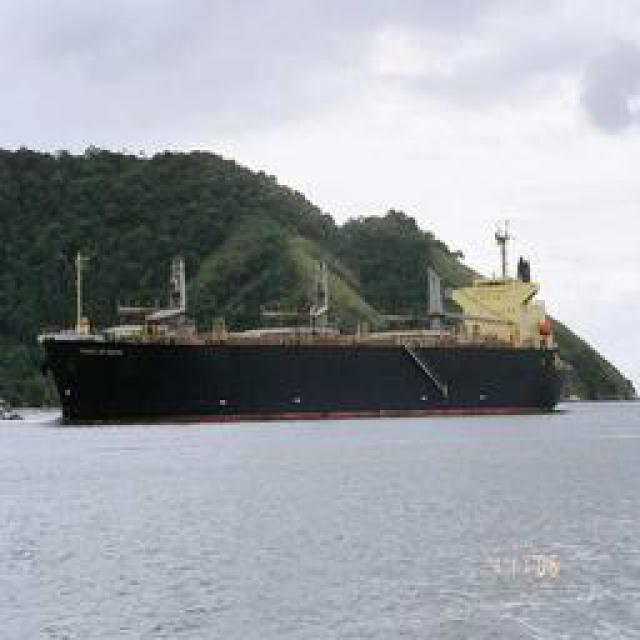Ship: (36, 241, 574, 419)
